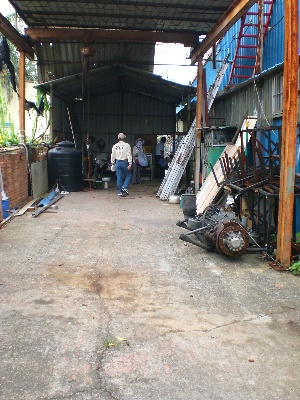bucket: (47, 140, 82, 192)
